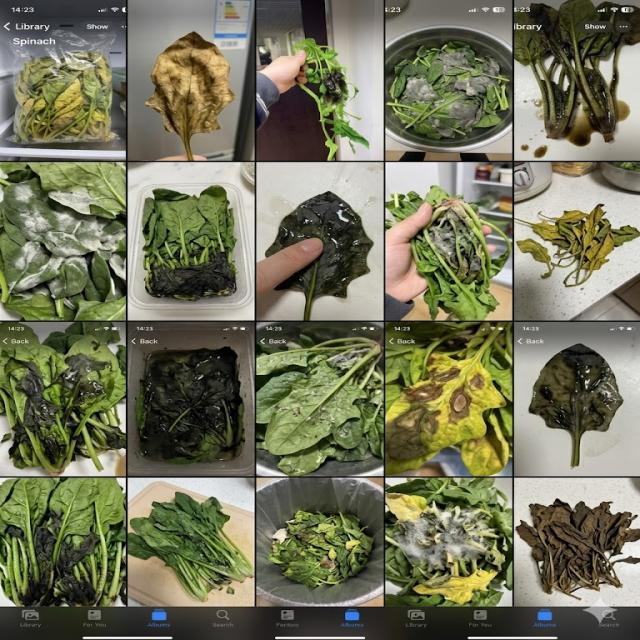rotten spinach: (522, 7, 632, 148), (17, 177, 126, 307), (269, 187, 368, 317), (15, 360, 128, 471), (531, 337, 620, 472), (142, 29, 235, 157), (386, 352, 487, 469), (518, 496, 634, 596), (146, 350, 244, 462), (286, 38, 371, 159), (6, 520, 111, 610), (18, 55, 118, 141), (518, 206, 611, 288), (420, 198, 488, 296), (137, 248, 245, 306), (408, 502, 496, 572), (286, 365, 360, 438), (290, 528, 316, 551), (317, 559, 337, 575)
spinach: (126, 497, 255, 601)
